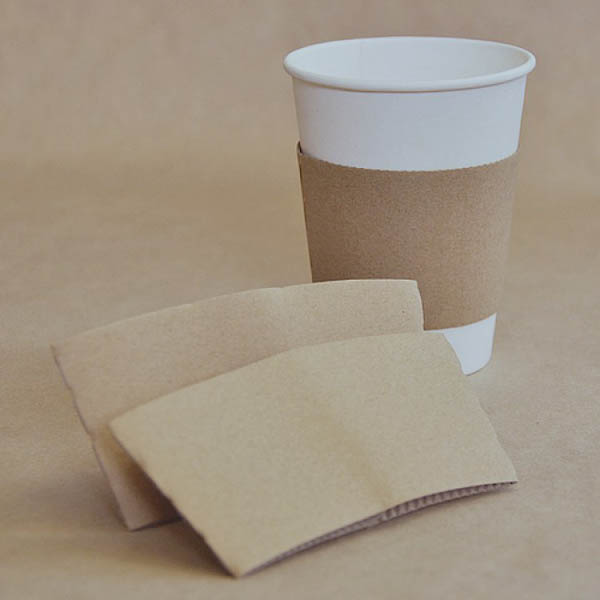Rec_Paper: (43, 286, 535, 556), (279, 25, 529, 368)
